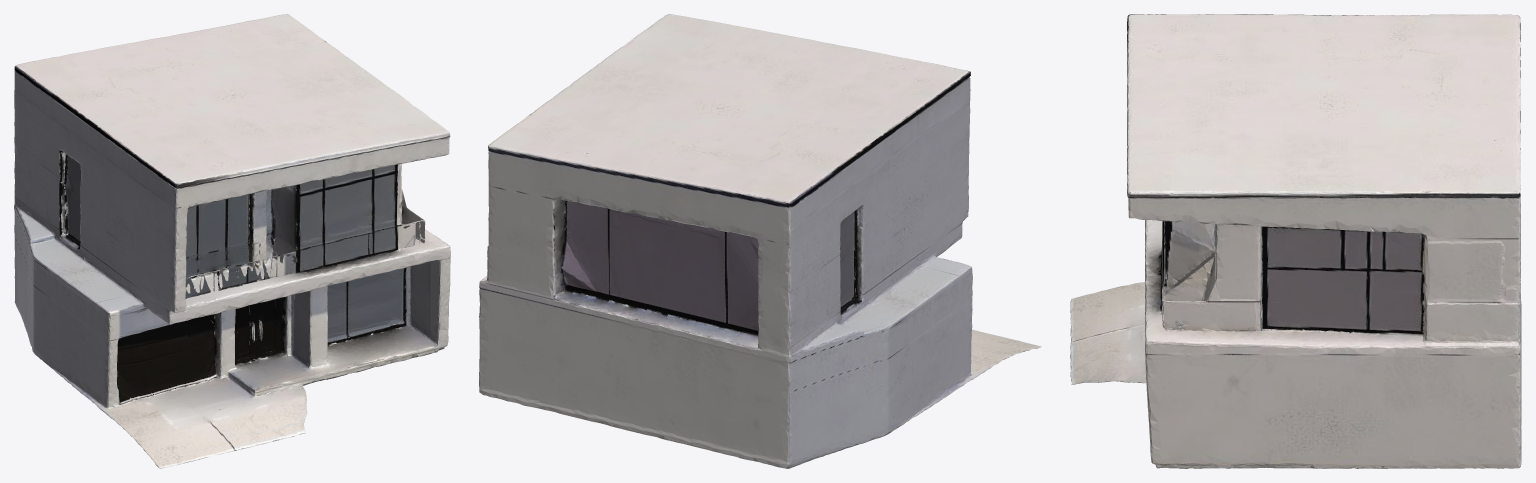
The model's file is safehouse.glb.
3 views of the same model, side by side, from view 1: azimuth 30°, elevation 25°; view 2: azimuth 150°, elevation 25°; view 3: azimuth 270°, elevation 25° (orthographic). The views are drawn at different scales.
Visible parts, largest first — view 1: world; view 2: world; view 3: world.
Part boxes in pixels (x1,y1,x2,y2): world: (14, 14, 450, 468); world: (479, 14, 1041, 468); world: (1070, 14, 1521, 468).
Size of the model in its own units: 1.98 by 1.5 by 1.99.
1 material, 1 textured.
